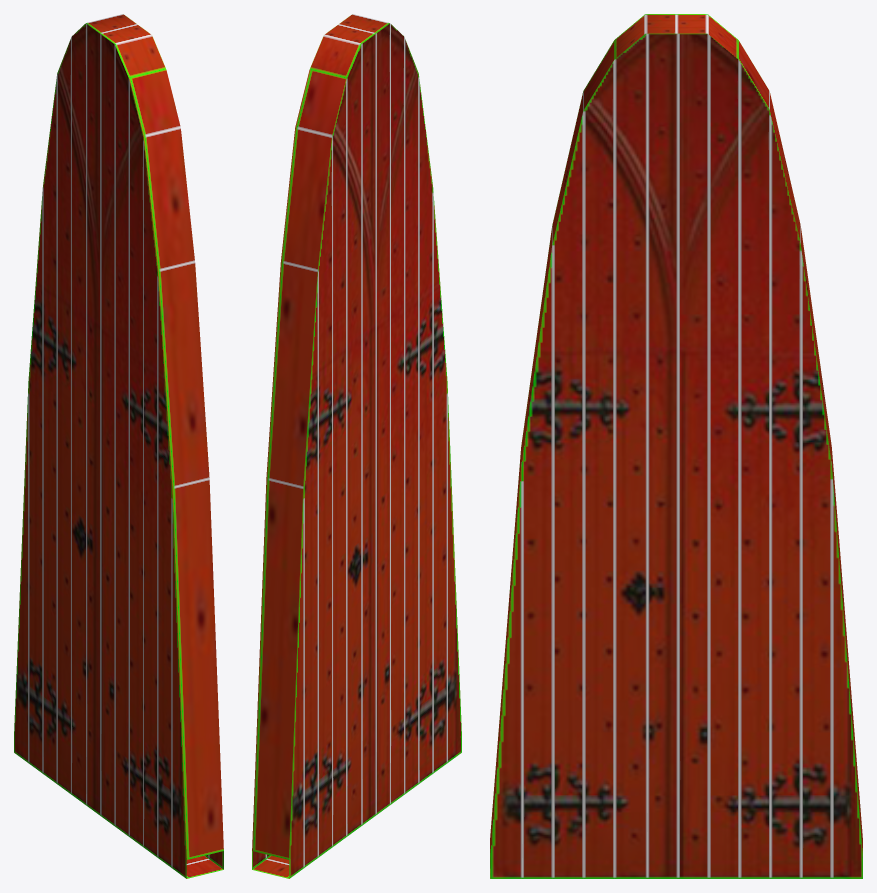
The model's file is CastleDoor.FBX.
3 views of the same model, side by side, from view 1: azimuth 30°, elevation 25°; view 2: azimuth 150°, elevation 25°; view 3: azimuth 270°, elevation 25° (orthographic). The views are drawn at different scales.
Parts seen in each view (by area): view 1: Box01; view 2: Box01; view 3: Box01.
Part boxes in pixels (x1=…): Box01: x1=14, y1=14, x2=223, y2=878; Box01: x1=252, y1=14, x2=461, y2=878; Box01: x1=490, y1=14, x2=862, y2=878.
Bounding box in the file's own units: 2 × 40.02 × 16.
Materials: 1 (1 with a texture image).
